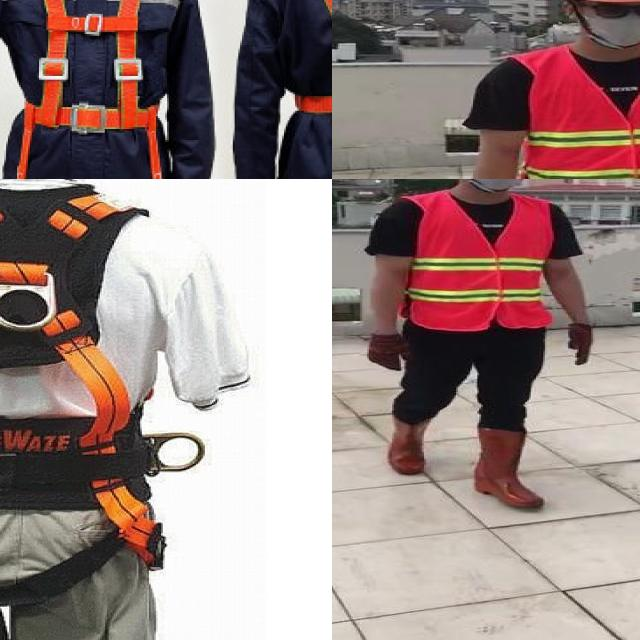Harness: (0, 185, 162, 564), (6, 0, 170, 179)
boots: (474, 427, 543, 509), (390, 413, 428, 476)
face_mask: (573, 0, 640, 49), (462, 179, 529, 190)
glasses: (586, 0, 640, 25)
hand_glove: (362, 335, 412, 371), (568, 324, 591, 366)
person: (347, 179, 601, 515), (465, 0, 640, 179)
vest: (410, 194, 554, 330), (519, 46, 640, 179)
